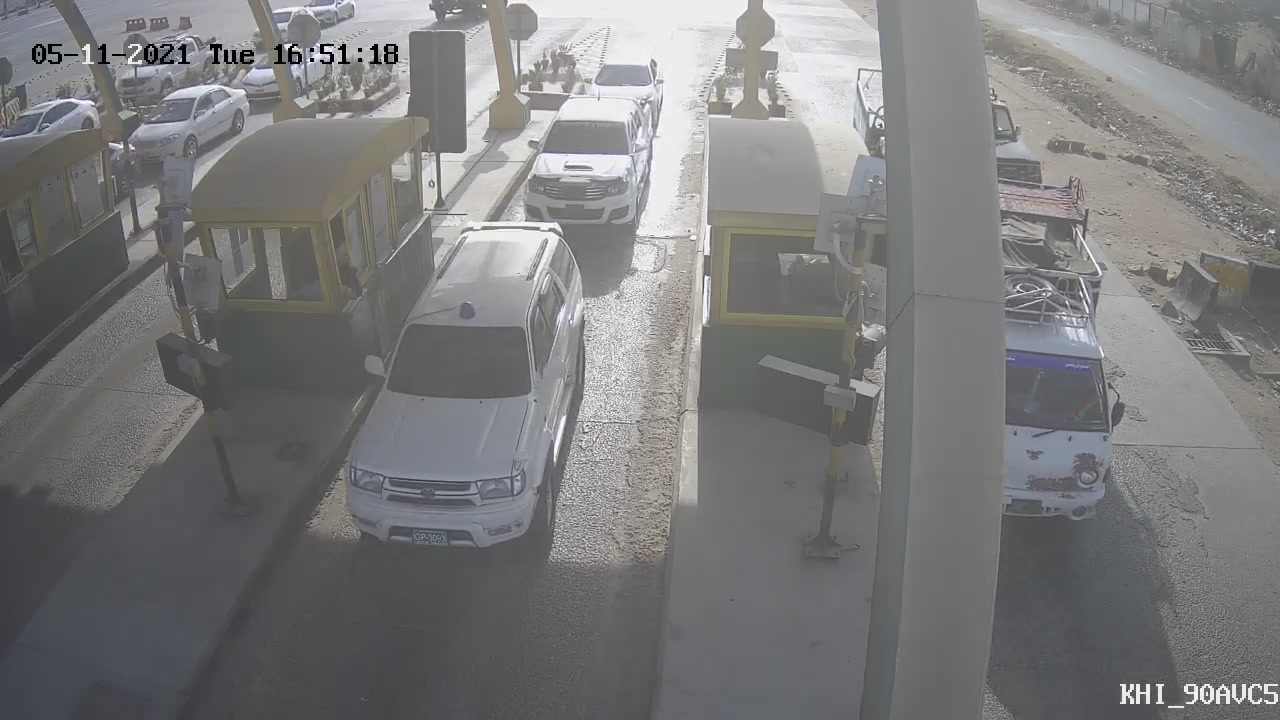F1: (317, 203, 614, 587), (507, 79, 673, 247)
